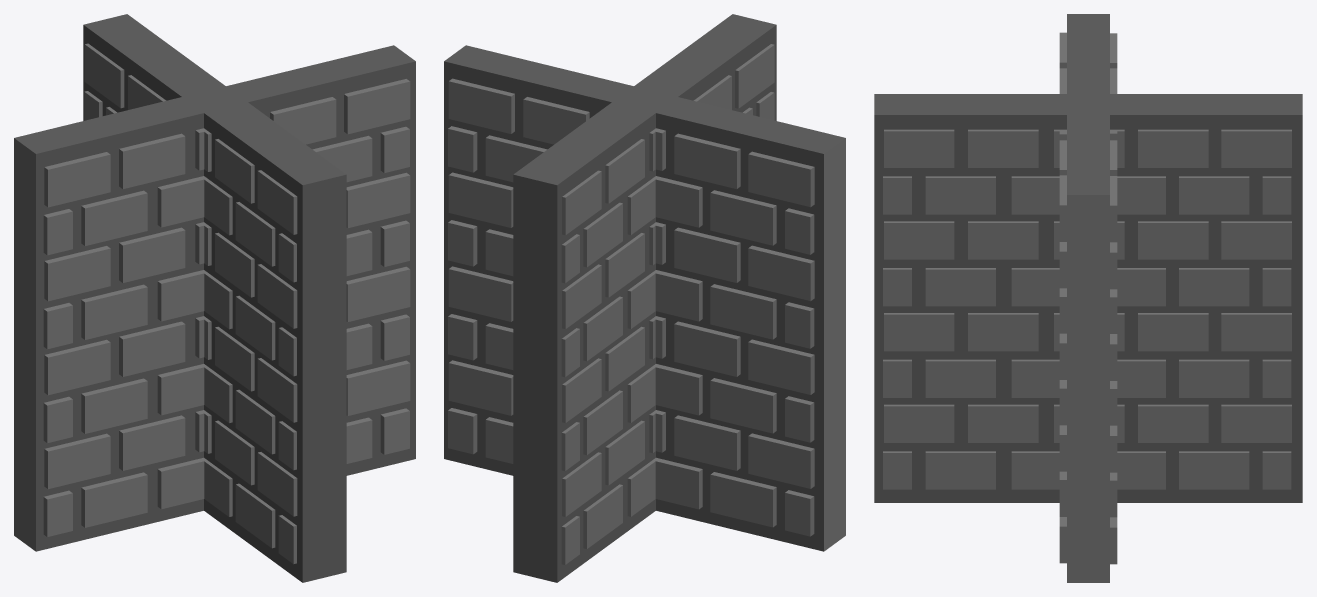
Rendered from Xshapewall.fbx.
3 renders of one model, left to right at view 1: azimuth 30°, elevation 25°; view 2: azimuth 150°, elevation 25°; view 3: azimuth 270°, elevation 25°, orthographic. The views are drawn at different scales.
Parts seen in each view (by area): view 1: xshapewall; view 2: xshapewall; view 3: xshapewall.
Part boxes in pixels (<box>): xshapewall: <box>14,14,415,582</box>; xshapewall: <box>444,14,845,582</box>; xshapewall: <box>874,14,1302,582</box>.
Bounding box in the file's own units: 100 × 100 × 100.
